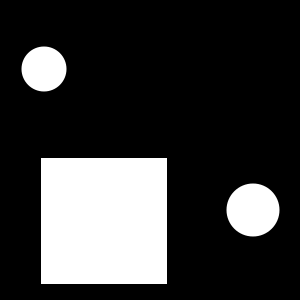circle: (41, 158, 167, 284), (57, 196, 125, 264)
rectangle: (226, 183, 280, 236), (22, 47, 66, 92)
